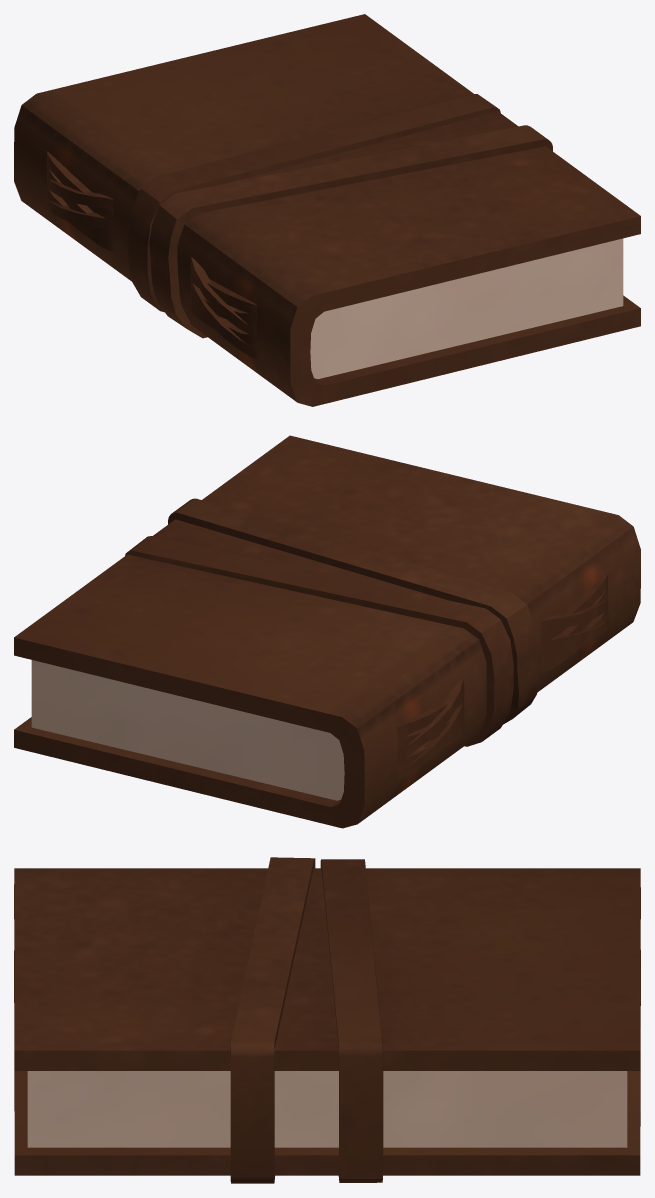
The model's file is SM_Journal.fbx.
The picture shows the model from 3 angles, top to bottom: view 1: azimuth 30°, elevation 25°; view 2: azimuth 150°, elevation 25°; view 3: azimuth 270°, elevation 25°; orthographic projection. The views are drawn at different scales.
Visible parts, largest first — view 1: SM_Journal; view 2: SM_Journal; view 3: SM_Journal.
Part boxes in pixels (box(x1,y1,x2,y2)): SM_Journal: box(14, 14, 640, 406); SM_Journal: box(14, 435, 640, 828); SM_Journal: box(14, 857, 640, 1183).
Bounding box in the file's own units: 15.99 × 5.15 × 20.71.
